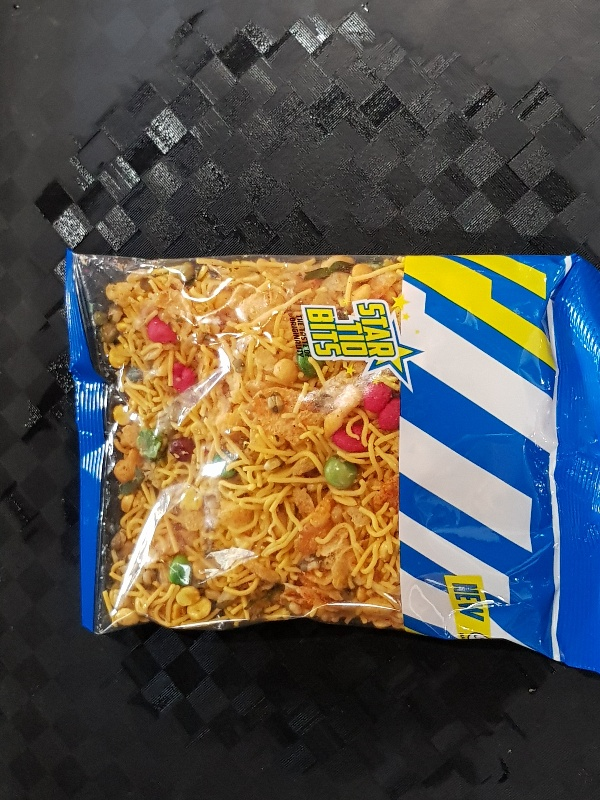Star Tidbits Mixer: (59, 247, 600, 673)
